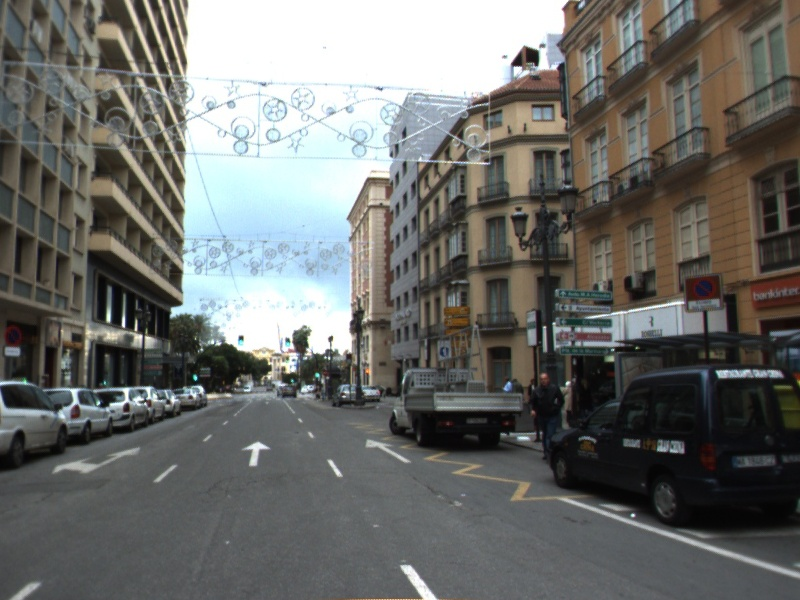STRAIGHT: (364, 437, 415, 465), (239, 439, 273, 468)
STRAIGHT_LEFT: (49, 444, 143, 477)
